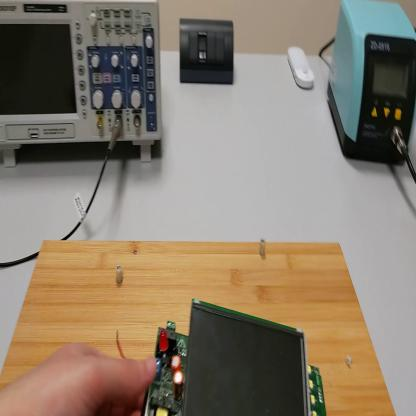hand: (1, 342, 157, 416)
low voltage board: (116, 300, 326, 416)
oscilloscope: (4, 4, 165, 167)
welder station: (327, 5, 416, 167)
working area: (3, 242, 395, 412)
